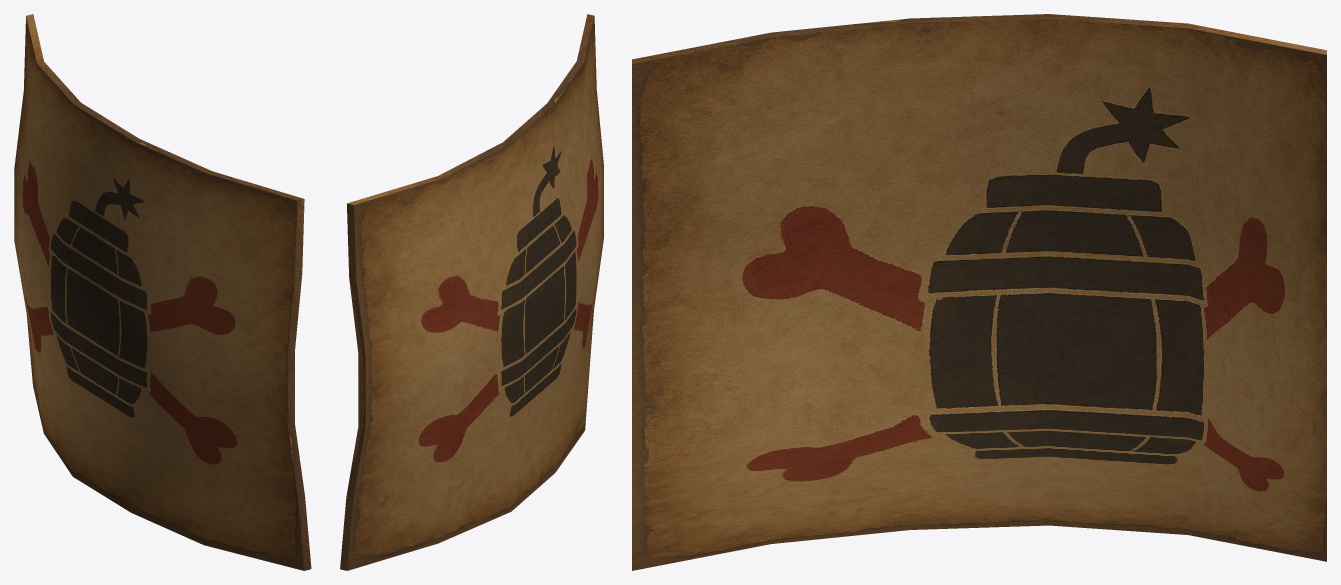
The model's file is MBL_Barrel_sign.fbx.
The picture shows the model from 3 angles, left to right: view 1: azimuth 30°, elevation 25°; view 2: azimuth 150°, elevation 25°; view 3: azimuth 270°, elevation 25°; orthographic projection. The views are drawn at different scales.
Visible parts, largest first — view 1: MBL_barrel_sign; view 2: MBL_barrel_sign; view 3: MBL_barrel_sign.
Part boxes in pixels (x1=…): MBL_barrel_sign: x1=14, y1=14, x2=311, y2=570; MBL_barrel_sign: x1=340, y1=14, x2=603, y2=570; MBL_barrel_sign: x1=632, y1=14, x2=1326, y2=570.
Size of the model in its own units: 0.8839 by 3.32 by 4.16.
Materials: 1 (1 with a texture image).
